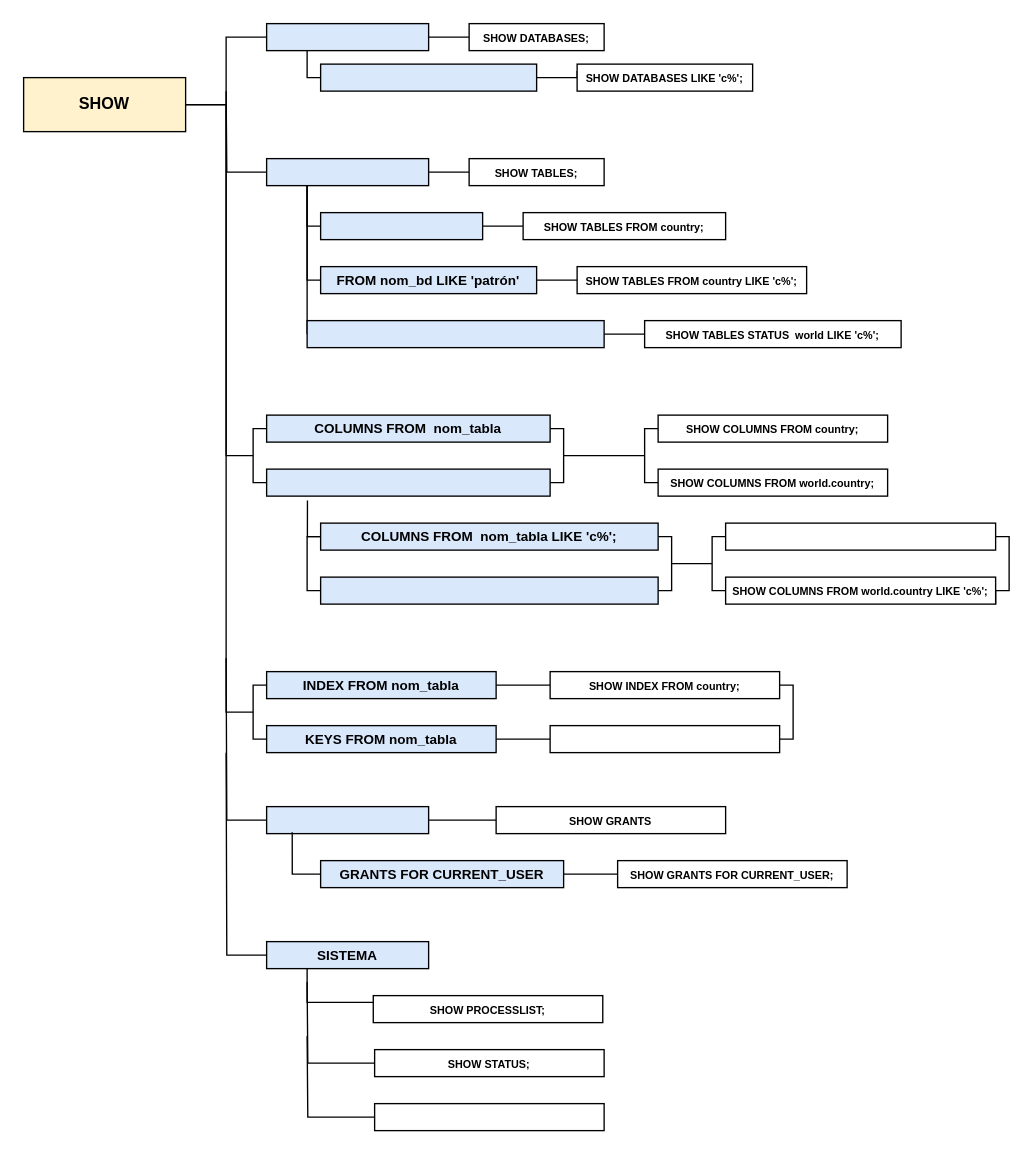
The diagram is 1034 pixels wide and 1154 high, and some of its shapes have lost their labels. The shapes that lost their labels are listed below. From the top down, each one's centre as x and y in pixels, then its label:
the point at 347,36: DATABASES
the point at 428,77: DATABASES LIKE 'patrón'
the point at 347,171: TABLES
the point at 401,225: FROM nom_bd
the point at 455,333: TABLES STATUS nom_bd LIKE 'c%'
the point at 407,482: COLUMNS FROM nom_bd.nom_tabla
the point at 860,536: SHOW COLUMNS FROM country LIKE 'c%';
the point at 488,590: COLUMNS FROM nom_bd.nom_tabla LIKE 'c%';
the point at 664,738: SHOW KEYS FROM country;
the point at 347,819: GRANTS
the point at 488,1116: SHOW VARIABLES;
